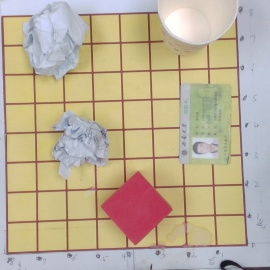card: (178, 83, 233, 167)
cup: (151, 2, 235, 57)
